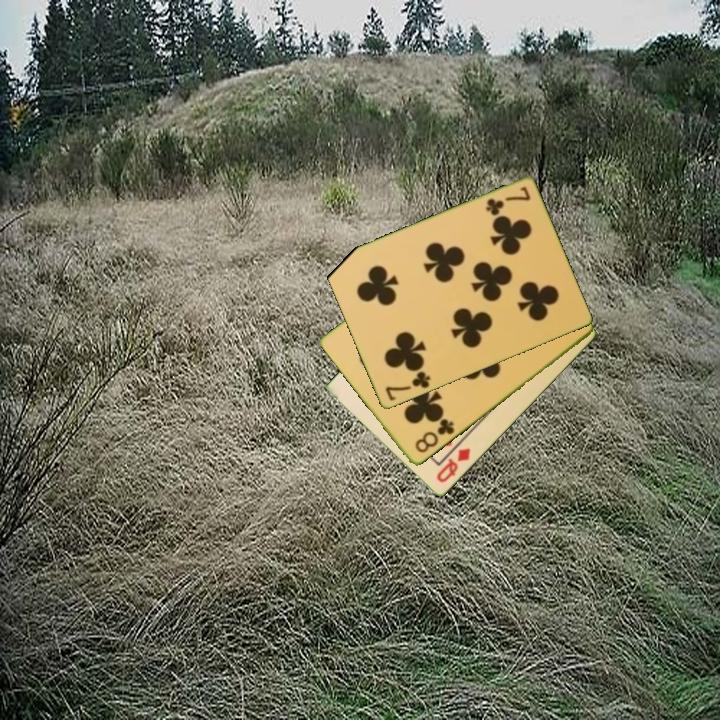7c: (381, 368, 433, 404), (482, 183, 533, 219)
8c: (411, 415, 457, 456)
Qd: (433, 444, 474, 486)
